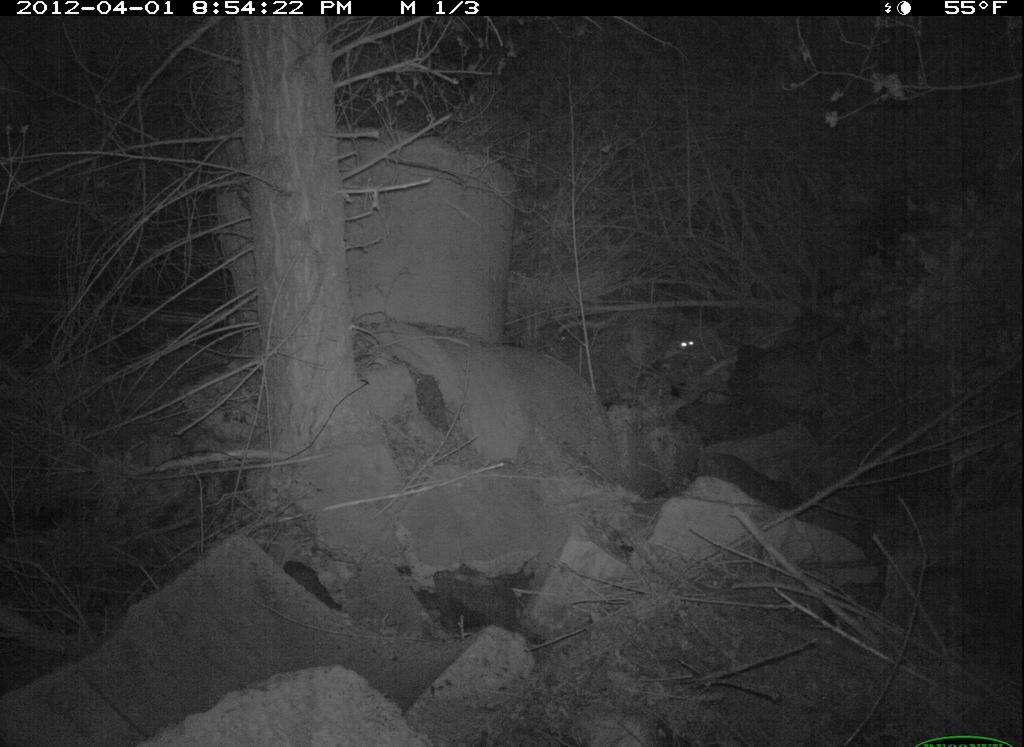bobcat: (596, 300, 711, 400)
